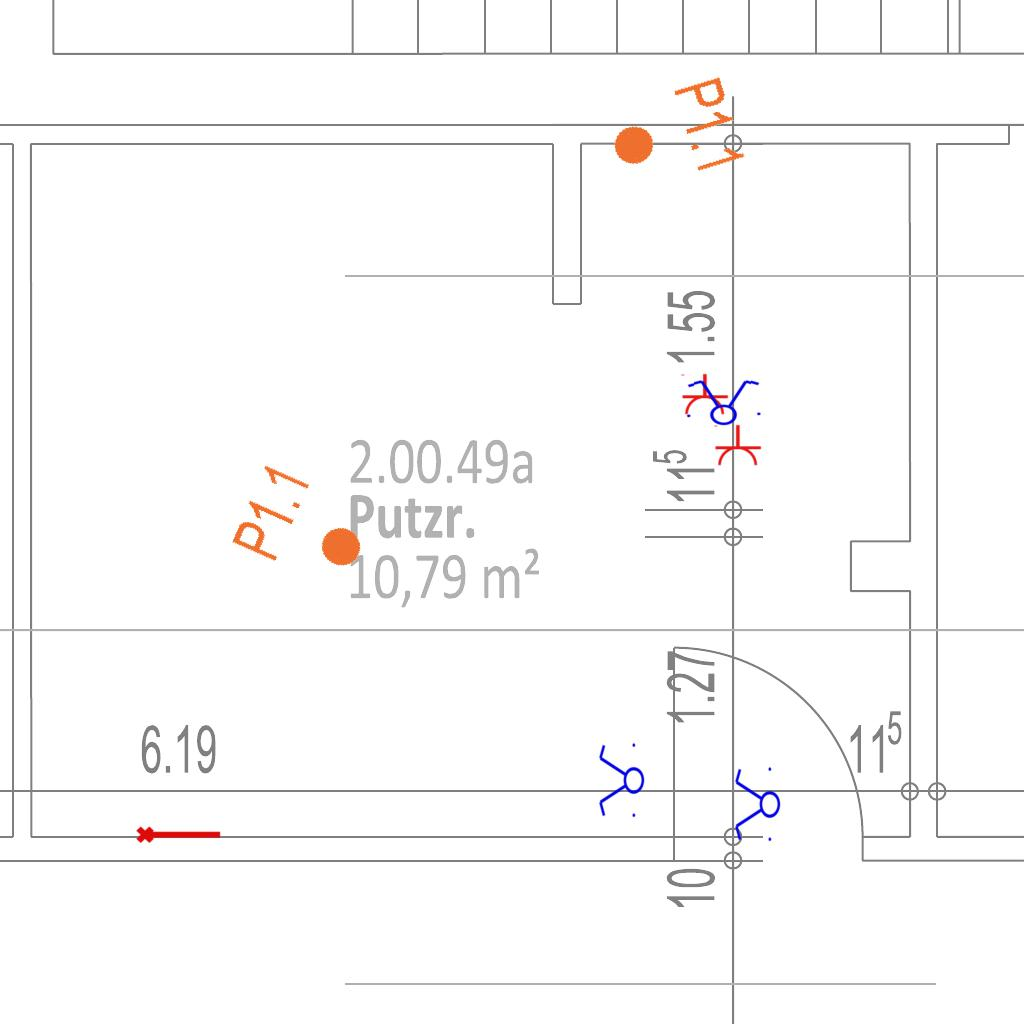ASR_Ansaugoeffnung: (135, 822, 223, 845)
Downlight_LED_Einbauleuchten_Flur: (227, 458, 382, 596), (599, 72, 750, 200)
Schukosteckdose_einfach: (679, 373, 729, 416), (712, 424, 762, 467)
Serienschalter: (680, 377, 766, 427), (733, 763, 781, 847), (597, 739, 645, 823)
